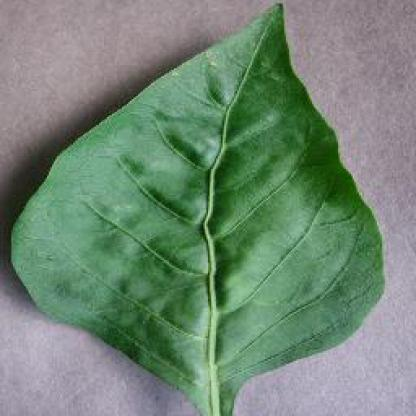good leaf: (0, 0, 415, 407)
